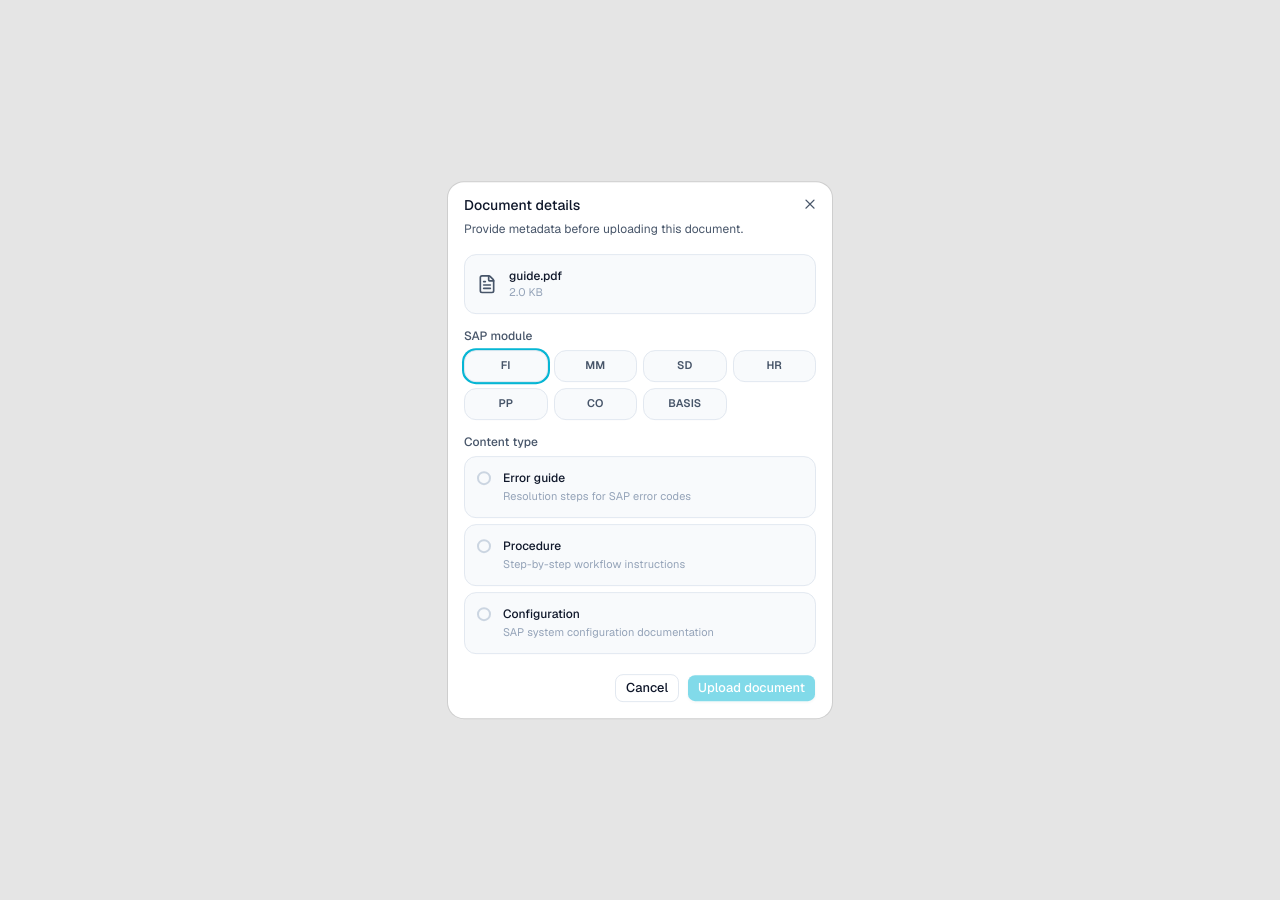
Scenario: DocumentMetadataModal › disables Upload until both a module and a content type are selected
Expected: the button "Upload document" is disabled, [687,674,816,702]
What coordinates should you click on to do the following:
click the button "SD"
I would click on:
 (685, 366)
Its box is [643,350,726,382].
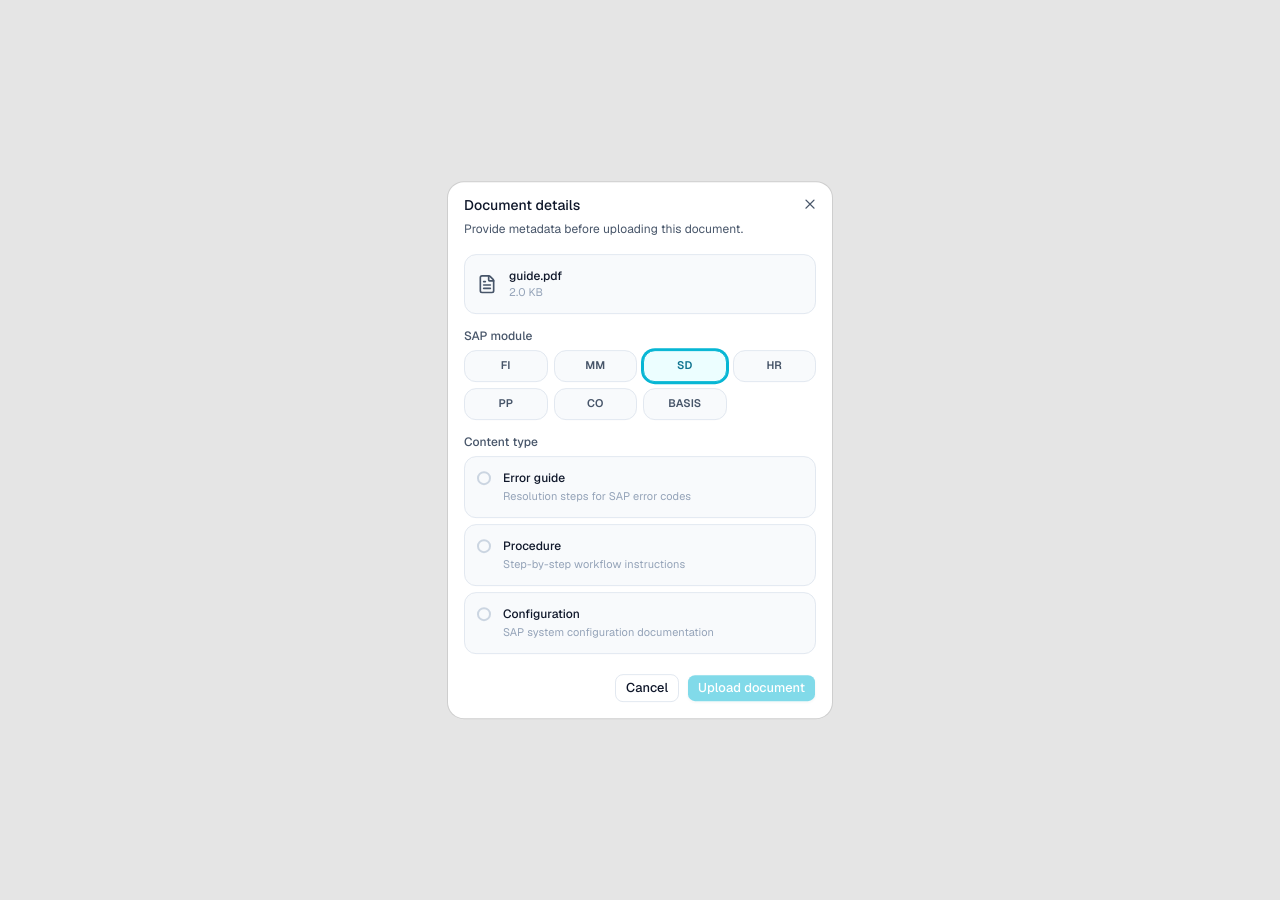
Expected: the button "Upload document" is disabled, [687,674,816,702]
What coordinates should you click on to do the following:
click the button "Error guide Resolution steps for SAP error codes"
I would click on:
 (640, 487)
Its box is [464,456,816,518].
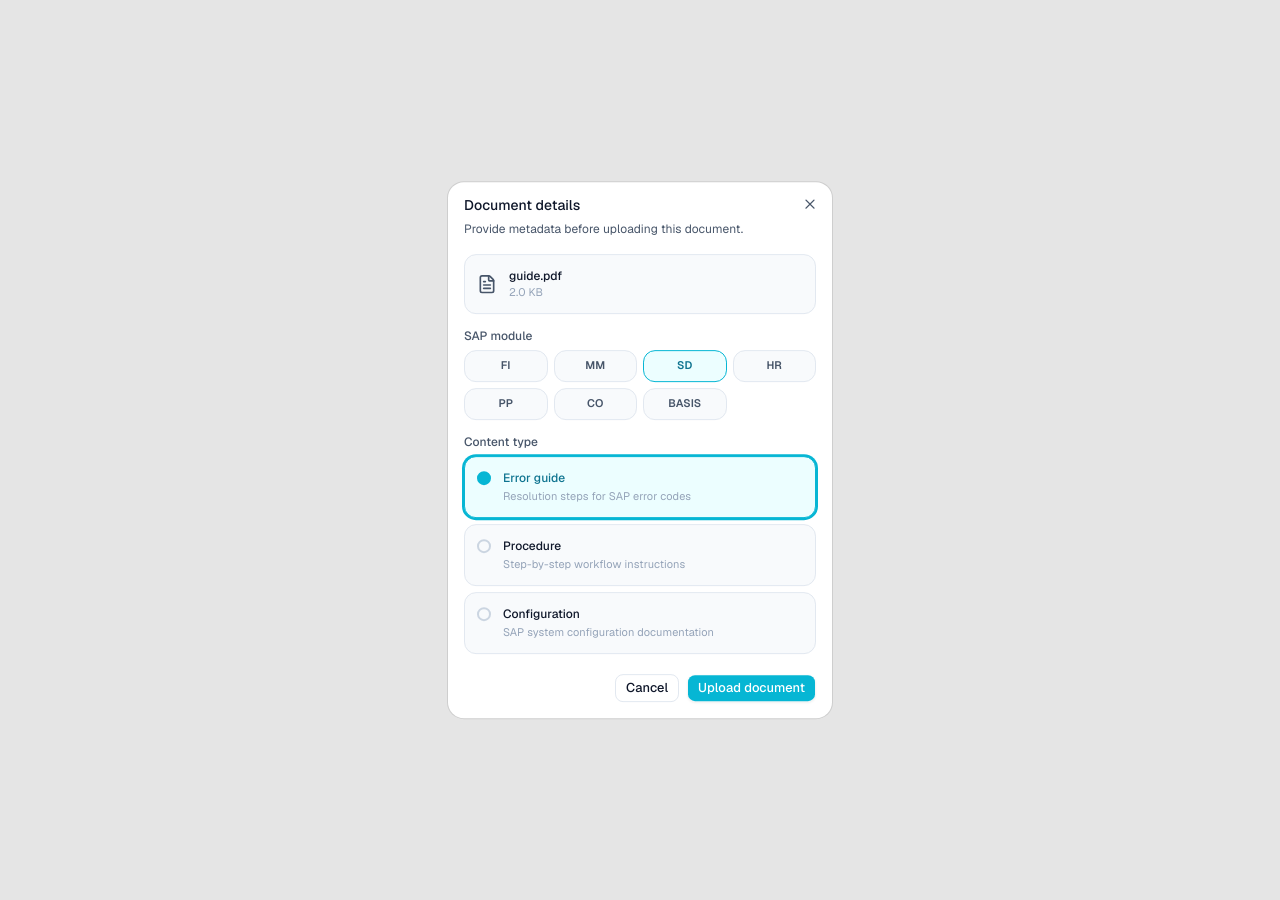
Result: the button "Upload document" is enabled at [687,674,816,702]
